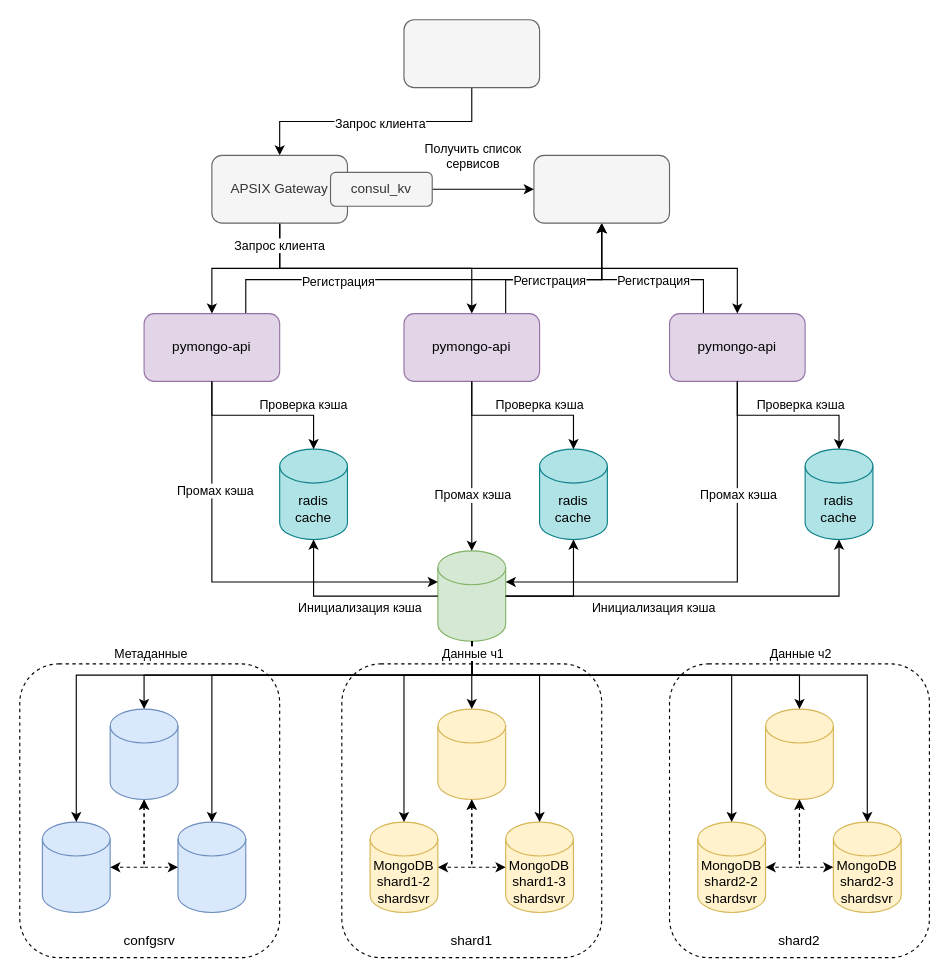
This 949x977 diagram has some shape labels left out. Here are the shapes that lost their labels. From the top down, the centre of each, then its label:
At [471,53]: "traefik".
At [601,188]: "Consul".
At [471,595]: "MongoDB mongos".
At [143,753]: "MongoDB configsrv-1".
At [471,753]: "MongoDB shard1-1 shardsvr".
At [798,753]: "MongoDB shard2-1 shardsvr".
At [75,866]: "MongoDB configsrv-2".
At [211,866]: "MongoDB configsrv-3".
